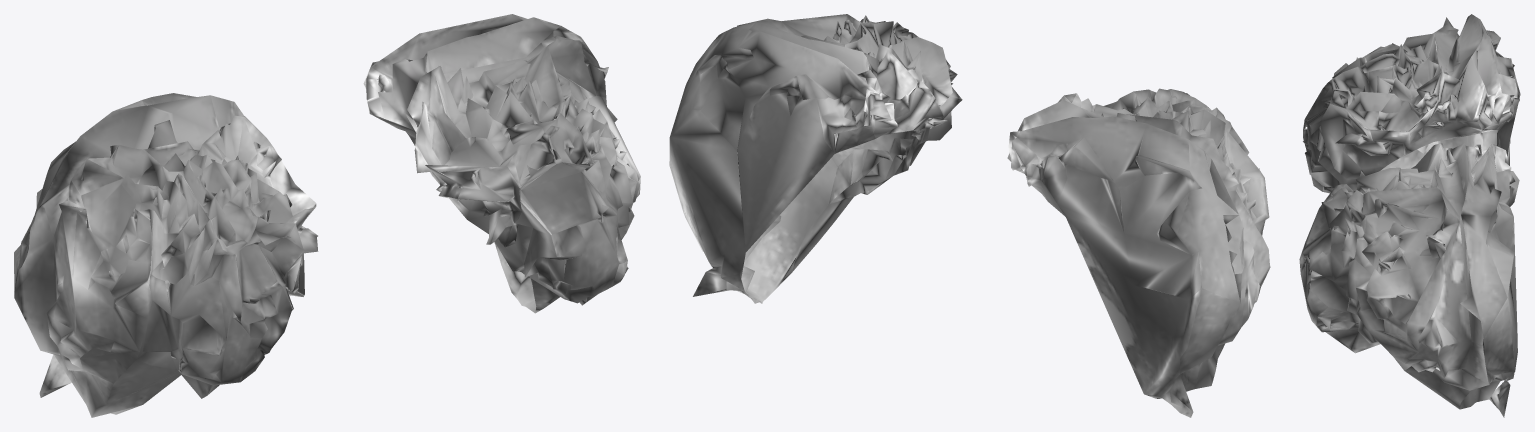
Rendered from afro-puffs.glb.
3 renders of one model, left to right at view 1: azimuth 30°, elevation 25°; view 2: azimuth 150°, elevation 25°; view 3: azimuth 270°, elevation 25°, orthographic. The views are drawn at different scales.
Parts seen in each view (by area): view 1: afro-puffs; view 2: afro-puffs; view 3: afro-puffs.
Boxes of the visible parts, left/top/right/bottom form: afro-puffs: left=14, top=14, right=640, bottom=417; afro-puffs: left=669, top=14, right=1270, bottom=417; afro-puffs: left=1299, top=14, right=1520, bottom=417.
Bounding box in the file's own units: 0.2101 × 0.0994 × 0.0858.
1 material, 1 textured.
